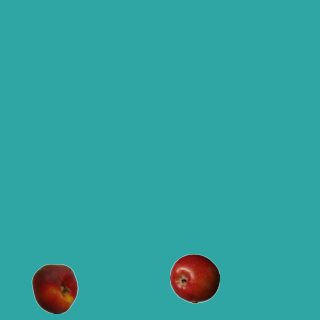Apple Braeburn: (169, 253, 219, 303)
Nectarine Flat: (29, 263, 79, 313)
